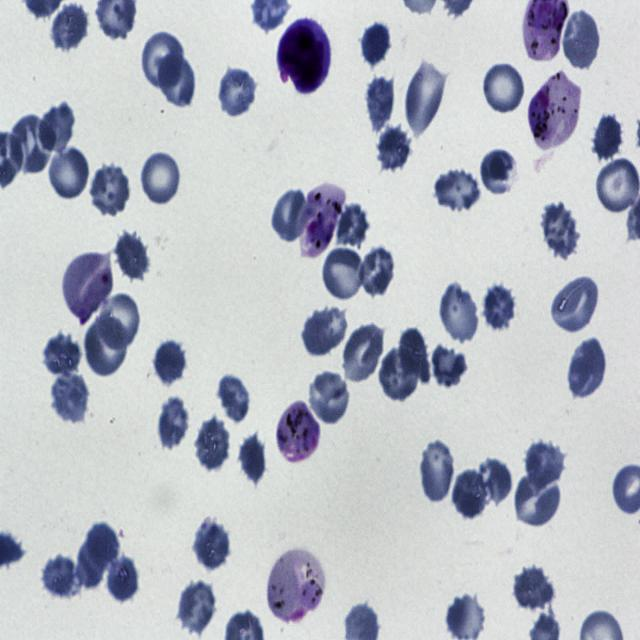difficult: (266, 549, 323, 622), (530, 71, 581, 151), (276, 399, 321, 464)
leukocyte: (278, 17, 330, 92)
red blood cell: (405, 58, 446, 137), (514, 471, 564, 530), (84, 315, 129, 379), (437, 280, 481, 345), (8, 113, 54, 175), (95, 292, 142, 351), (140, 29, 185, 90), (552, 275, 598, 334), (568, 335, 610, 399), (342, 322, 385, 384), (418, 436, 456, 506), (321, 245, 366, 302), (308, 369, 352, 426), (176, 578, 218, 637), (482, 60, 527, 115), (302, 303, 348, 356), (539, 200, 581, 258), (597, 156, 639, 214), (564, 8, 602, 72), (139, 150, 182, 206), (48, 145, 91, 201), (156, 52, 196, 110), (379, 345, 420, 401), (49, 371, 90, 425), (512, 562, 555, 613), (363, 69, 396, 135), (192, 517, 230, 574), (433, 168, 480, 214), (524, 438, 568, 487), (194, 414, 231, 472), (271, 188, 310, 243), (39, 99, 77, 155), (156, 396, 194, 452), (90, 164, 130, 217), (111, 229, 150, 283), (397, 326, 432, 386), (218, 65, 258, 117), (476, 455, 515, 508), (480, 147, 521, 197), (358, 247, 397, 298), (50, 3, 89, 53), (36, 555, 80, 599), (452, 470, 489, 521), (445, 593, 485, 640), (482, 282, 519, 332), (105, 551, 139, 605), (593, 109, 627, 162), (151, 336, 186, 385), (359, 20, 392, 69), (336, 201, 370, 248), (85, 524, 120, 569), (432, 346, 468, 389), (43, 332, 78, 376), (238, 431, 266, 486), (218, 375, 250, 423), (377, 126, 411, 170), (76, 540, 105, 590)
ring: (62, 249, 113, 324)
trophozoite: (298, 187, 347, 257)
